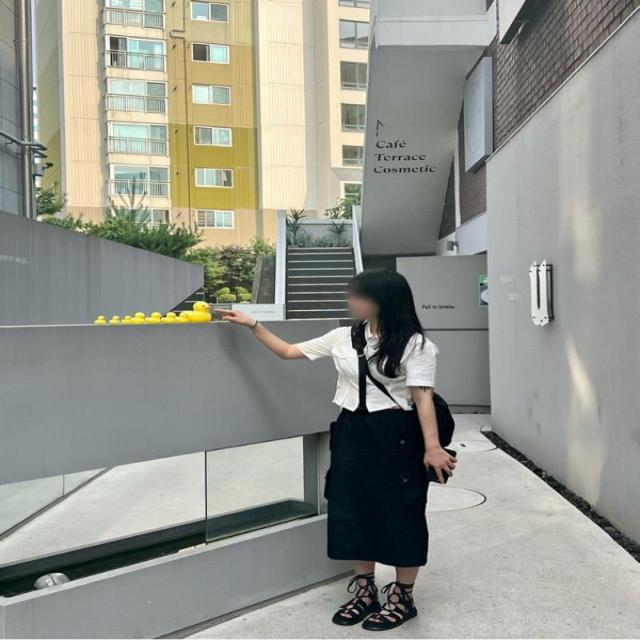shortsleeve: (297, 320, 439, 410)
skirt: (325, 406, 432, 566)
